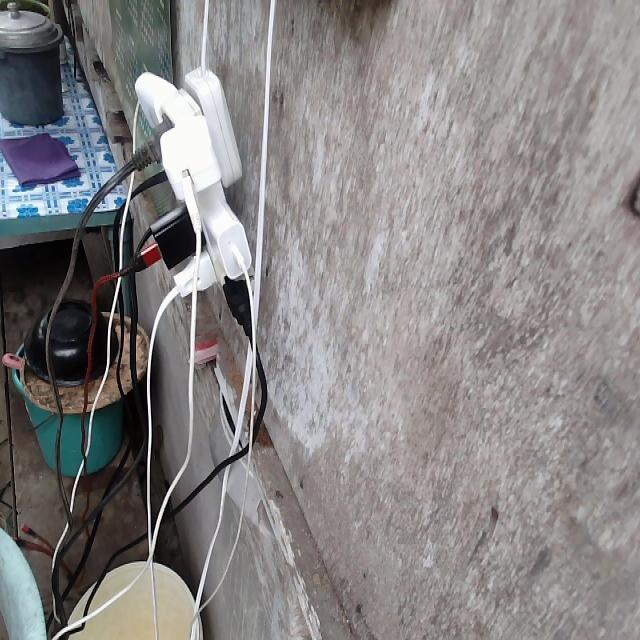-: (124, 69, 259, 336)
